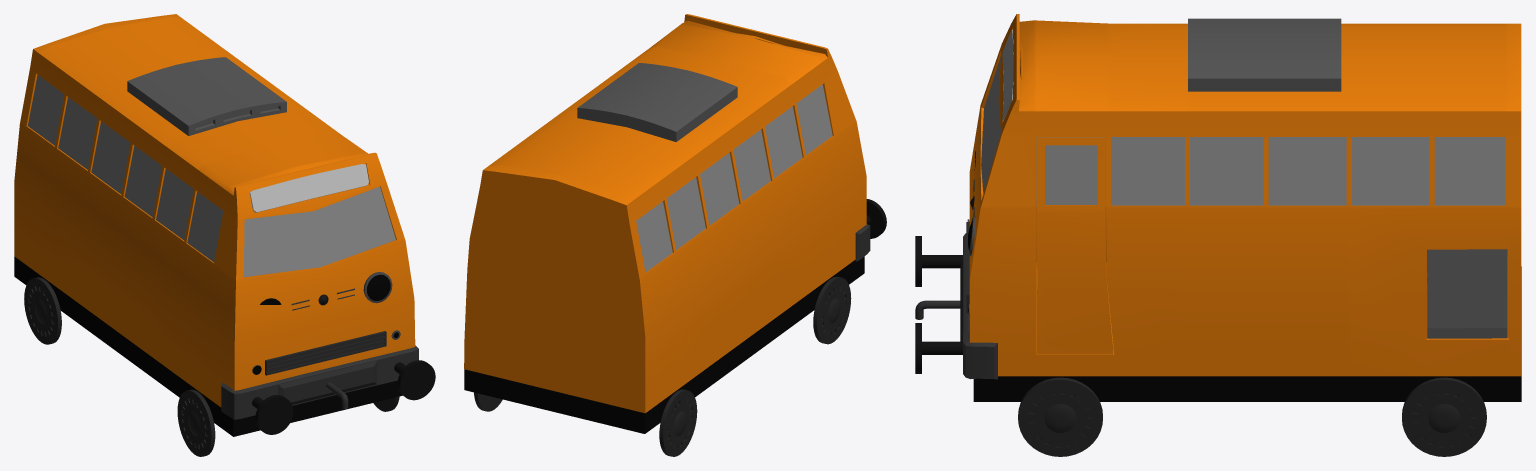
The model's file is School_12-11_2016.FBX.
3 renders of one model, left to right at view 1: azimuth 30°, elevation 25°; view 2: azimuth 150°, elevation 25°; view 3: azimuth 270°, elevation 25°, orthographic. The views are drawn at different scales.
Visible parts, largest first — view 1: obj_busmain, obj_windows_01, obj_bus_topvent, obj_carriagelower, obj_bumper, obj_signbase, obj_hookplate, obj_grill, obj_smallwheelfront_r, obj_smallwheelrear_r, obj_bumper_l, obj_bumper_r (+1 smaller); view 2: obj_busmain, obj_windows_01, obj_bus_topvent, obj_carriagelower, obj_smallwheelrear_r, obj_smallwheelfront_r, obj_bumper_r, obj_bumper; view 3: obj_busmain, obj_windows_01, obj_door, obj_carriagelower, obj_bus_topvent, obj_vent, obj_smallwheelfront_l, obj_smallwheelrear_l, obj_bumper, obj_bumper_l, obj_bumper_r, obj_signbase.
Part boxes in pixels (x1,y1,x2,y2): obj_busmain: (14, 14, 415, 407); obj_windows_01: (28, 75, 395, 277); obj_bus_topvent: (127, 57, 286, 135); obj_carriagelower: (14, 256, 402, 436); obj_bumper: (221, 345, 418, 419); obj_signbase: (249, 164, 368, 212); obj_hookplate: (278, 361, 377, 404); obj_grill: (265, 331, 386, 375); obj_smallwheelfront_r: (177, 389, 215, 456); obj_smallwheelrear_r: (24, 277, 61, 344); obj_bumper_l: (394, 360, 435, 400); obj_bumper_r: (252, 395, 293, 434); obj_busmain: (464, 14, 866, 413); obj_windows_01: (636, 84, 832, 272); obj_bus_topvent: (577, 63, 737, 141); obj_carriagelower: (464, 256, 864, 433); obj_smallwheelrear_r: (659, 389, 697, 456); obj_smallwheelfront_r: (813, 276, 851, 344); obj_bumper_r: (866, 199, 886, 238); obj_bumper: (855, 224, 870, 261); obj_busmain: (969, 14, 1521, 376); obj_windows_01: (981, 57, 1505, 206); obj_door: (1037, 137, 1113, 354); obj_carriagelower: (973, 266, 1521, 401); obj_bus_topvent: (1188, 18, 1341, 91); obj_vent: (1427, 249, 1507, 338); obj_smallwheelfront_l: (1018, 377, 1102, 456); obj_smallwheelrear_l: (1402, 377, 1486, 456); obj_bumper: (963, 233, 997, 379); obj_bumper_l: (915, 323, 962, 373); obj_bumper_r: (915, 236, 963, 286); obj_signbase: (1002, 30, 1013, 121).
Bounding box in the file's own units: 21.28 × 30.21 × 46.61.
